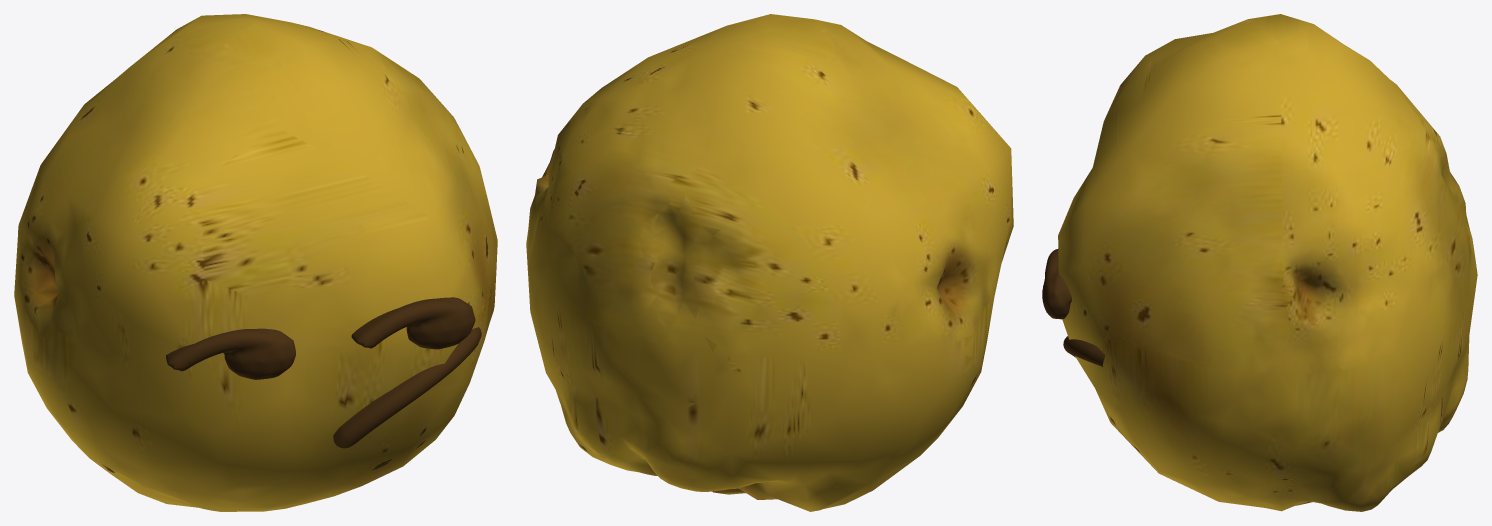
Rendered from potato.glb.
3 views of the same model, side by side, from view 1: azimuth 30°, elevation 25°; view 2: azimuth 150°, elevation 25°; view 3: azimuth 270°, elevation 25° (orthographic). The views are drawn at different scales.
Visible parts, largest first — view 1: Icosphere, Icosphere.001, Icosphere.002, NurbsCurve; view 2: Icosphere; view 3: Icosphere, Icosphere.002, NurbsCurve.
Boxes of the visible parts, x1,y1,x2,y2 form: Icosphere: (14, 14, 497, 511); Icosphere.001: (166, 328, 295, 379); Icosphere.002: (351, 297, 475, 349); NurbsCurve: (333, 327, 481, 448); Icosphere: (526, 14, 1013, 511); Icosphere: (1058, 14, 1477, 511); Icosphere.002: (1042, 249, 1071, 319); NurbsCurve: (1063, 336, 1105, 366).
Bounding box in the file's own units: 2.38 × 2.48 × 2.17.
3 materials, 1 textured.
